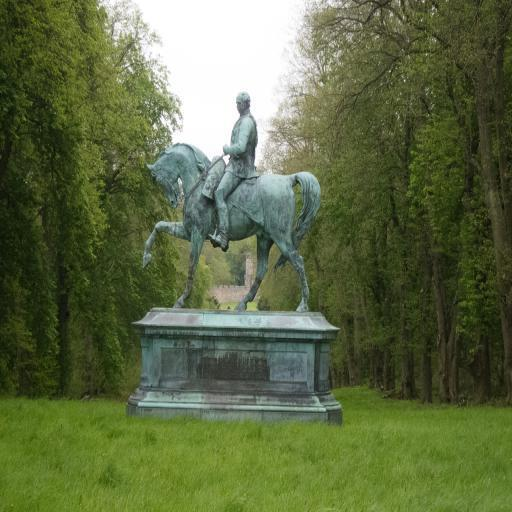horse: (140, 138, 324, 312)
